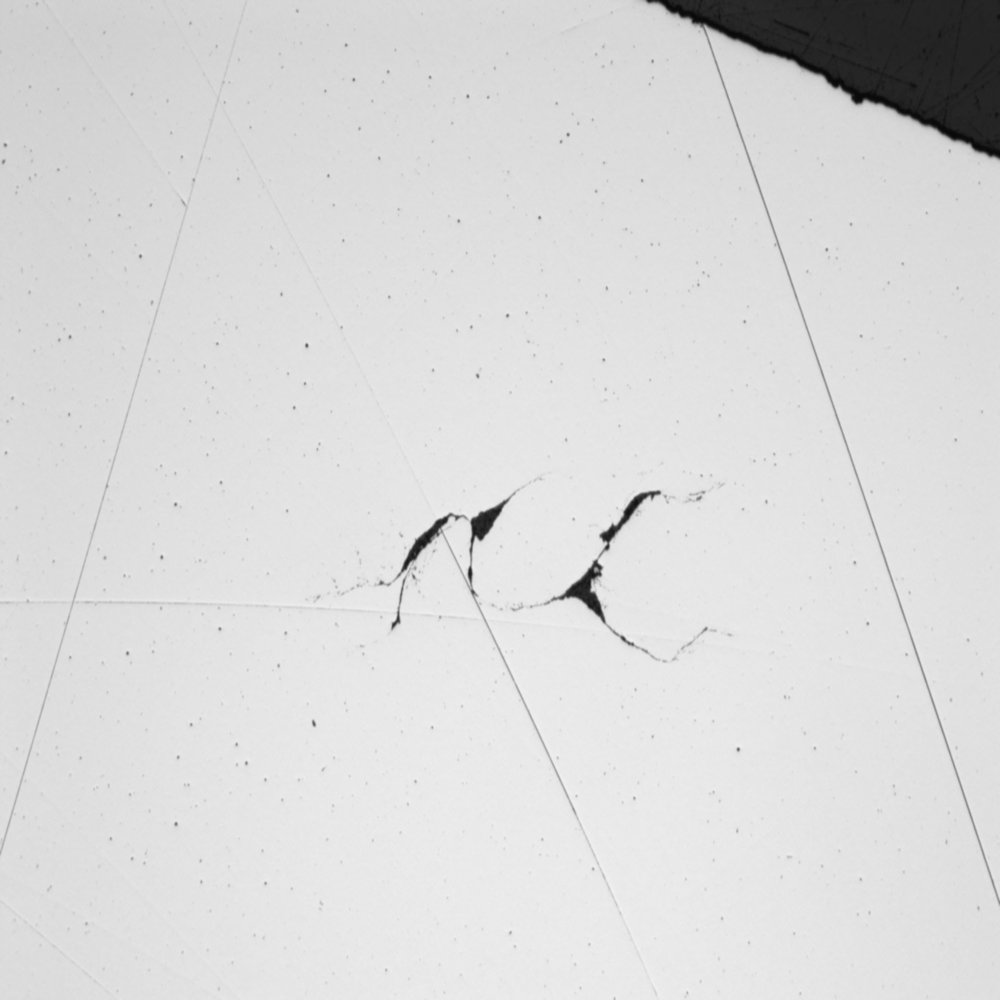crack: (292, 431, 735, 700)
